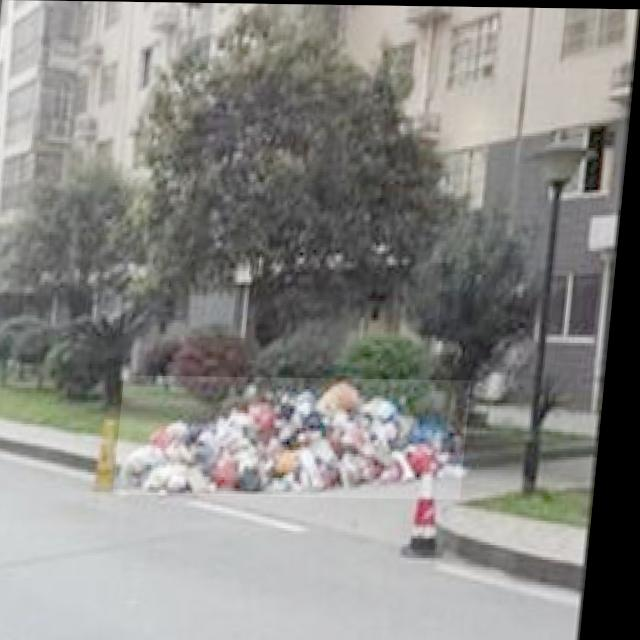garbage: (123, 375, 479, 498)
